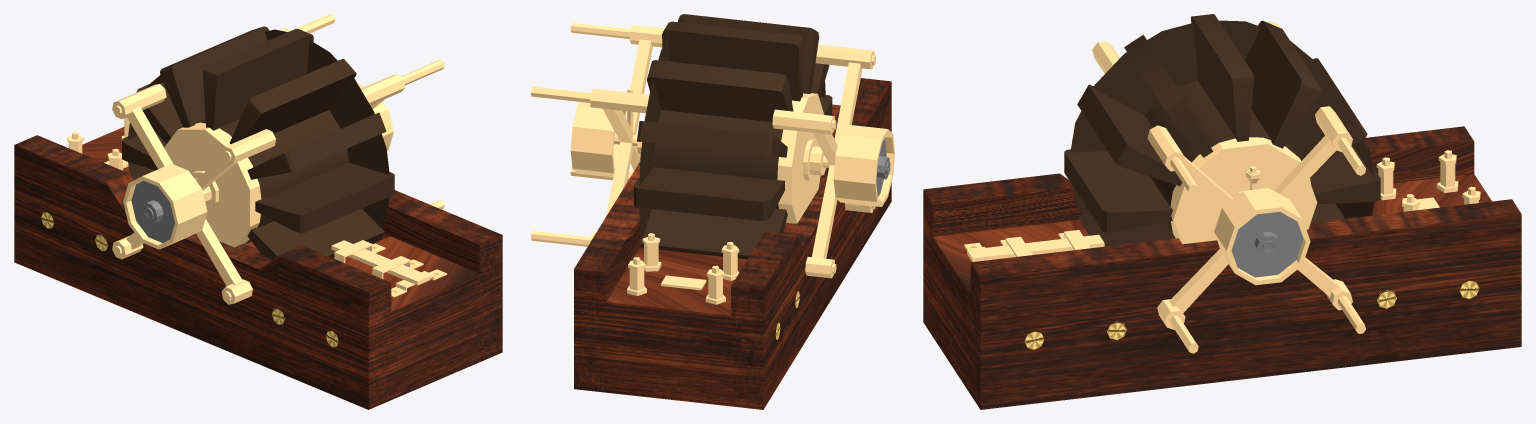
The model's file is invention-alternating-current.glb.
The picture shows the model from 3 angles, left to right: view 1: azimuth 30°, elevation 25°; view 2: azimuth 150°, elevation 25°; view 3: azimuth 270°, elevation 25°; orthographic projection. The views are drawn at different scales.
Parts seen in each view (by area): view 1: objects; view 2: objects; view 3: objects.
Boxes of the visible parts, box(x1,y1,x2,y2) form: objects: box(14, 14, 502, 409); objects: box(531, 14, 894, 409); objects: box(923, 14, 1521, 409).
Bounding box in the file's own units: 1.43 × 1.14 × 2.13.
Materials: 5 (3 with a texture image).
